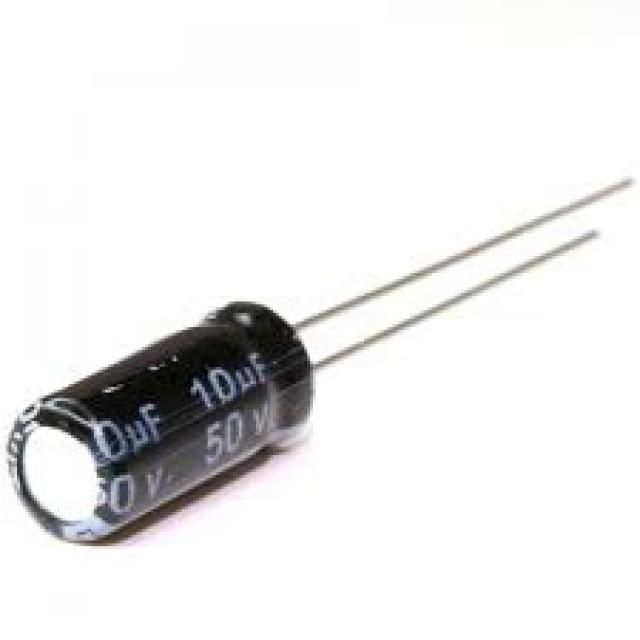Capacitor: (6, 191, 609, 549)
